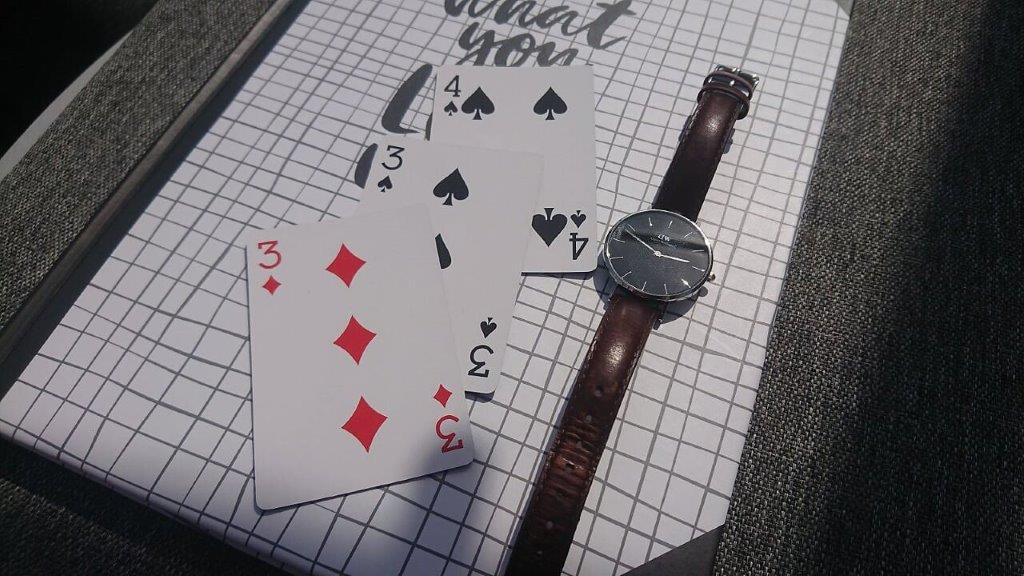3D: (251, 236, 289, 300)
3S: (373, 140, 407, 195)
4S: (441, 68, 463, 121)
